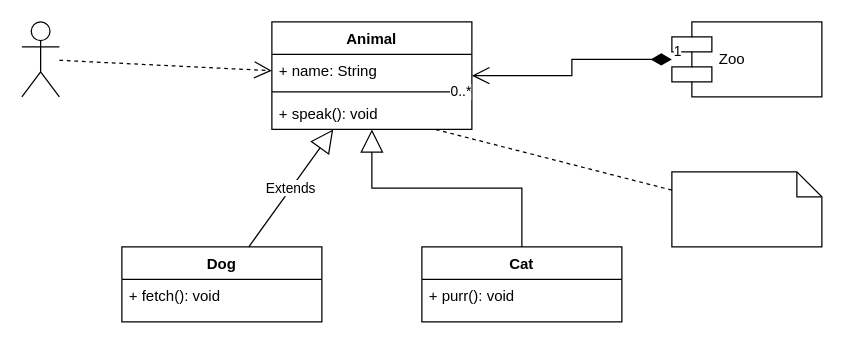
Some shapes in this 844 by 344 pixel diagram are drawn without their labels. The shapes that lost their labels are listed below. From the top down, each one's centre as x and y in pixels, then its label:
At pixel 40 59: "用户".
At pixel 746 209: "所有动物都会叫".
